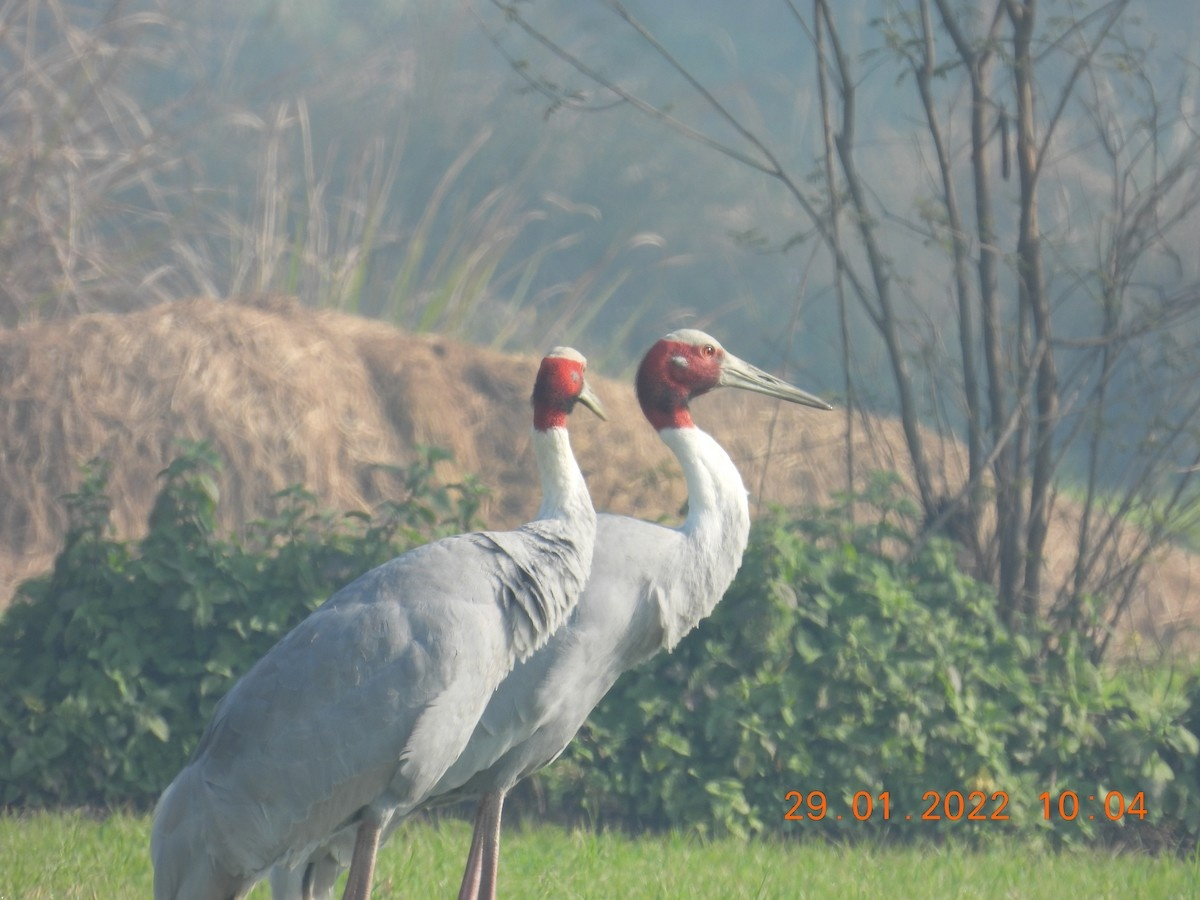crane: (172, 340, 607, 900), (606, 321, 847, 659)
